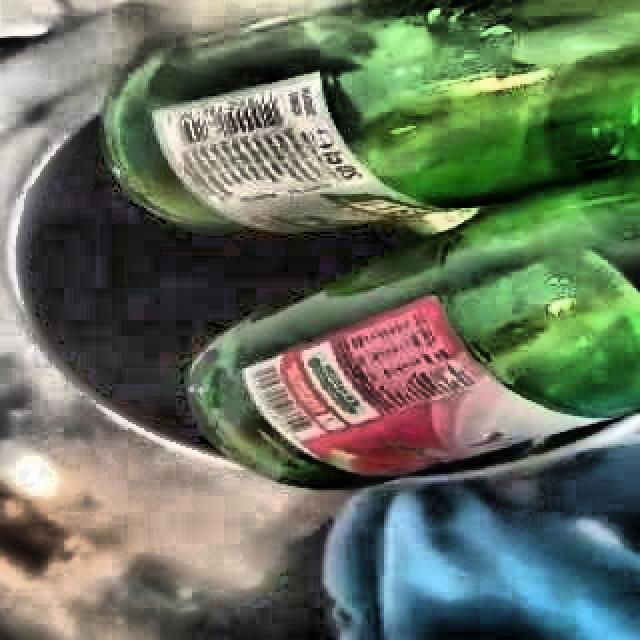glass: (99, 0, 640, 488)
